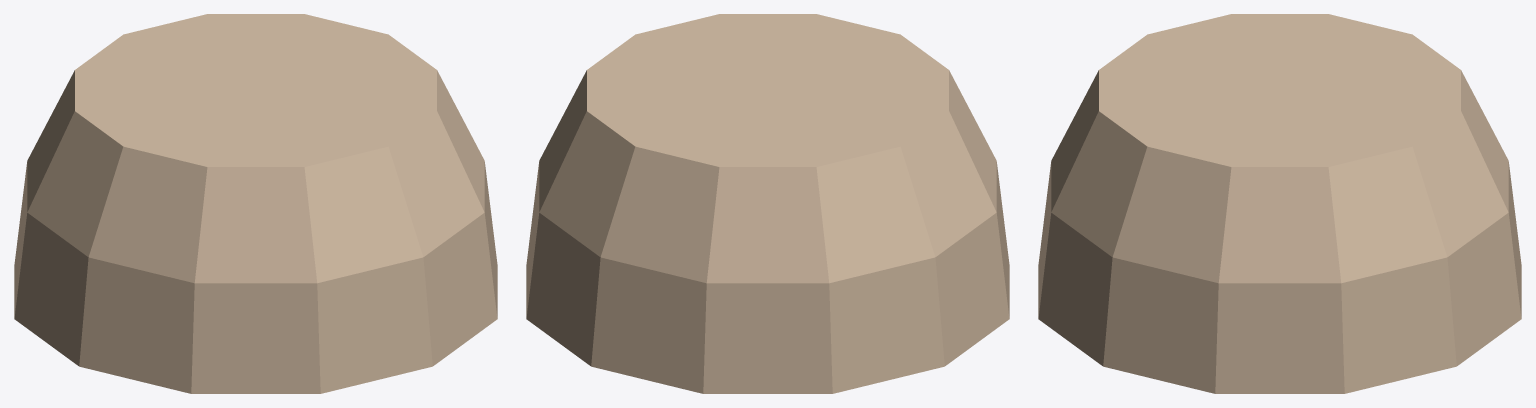
The model's file is hamal_adapter_s1_s0p5_1_collider.obj.
The picture shows the model from 3 angles, left to right: view 1: azimuth 30°, elevation 25°; view 2: azimuth 150°, elevation 25°; view 3: azimuth 270°, elevation 25°; orthographic projection.
Parts seen in each view (by area): view 1: collider; view 2: collider; view 3: collider.
Part boxes in pixels (x1,y1,x2,y2): collider: [14, 14, 497, 393]; collider: [526, 14, 1009, 393]; collider: [1038, 14, 1521, 393].
Size of the model in its own units: 1.25 by 0.575 by 1.25.
